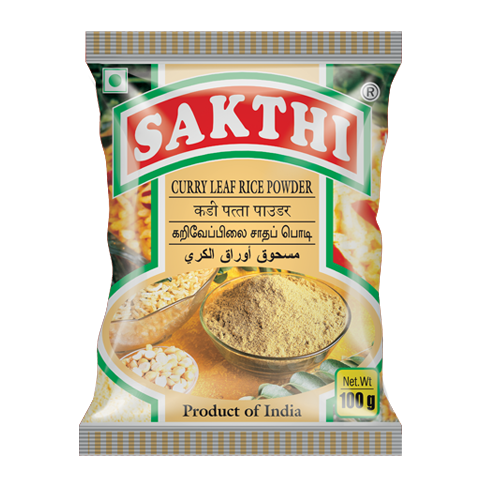VEG: (100, 66, 129, 95)
